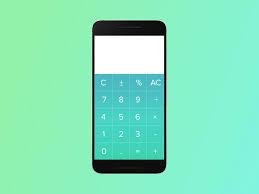Calculator: (90, 69, 167, 162)
